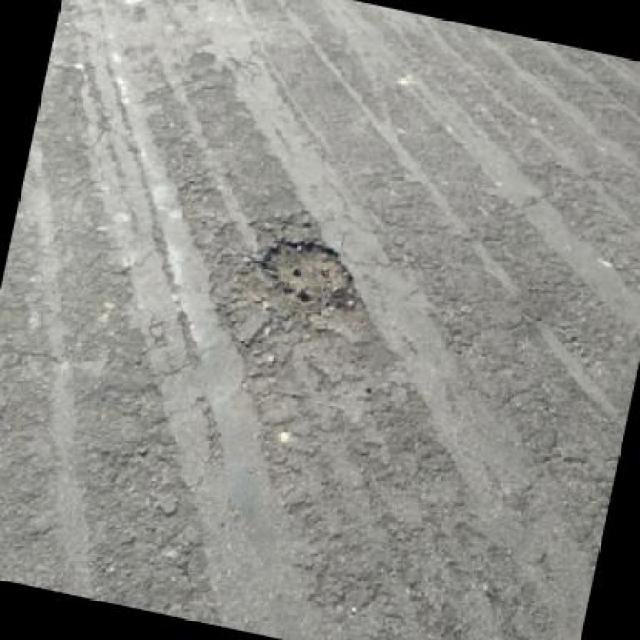pothole1: (249, 228, 365, 312)
